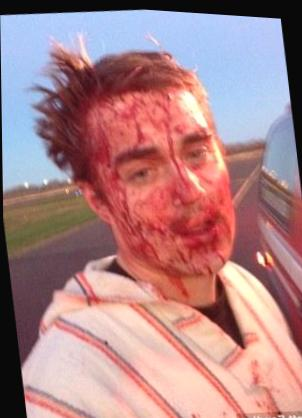Fire: (88, 86, 234, 294)
